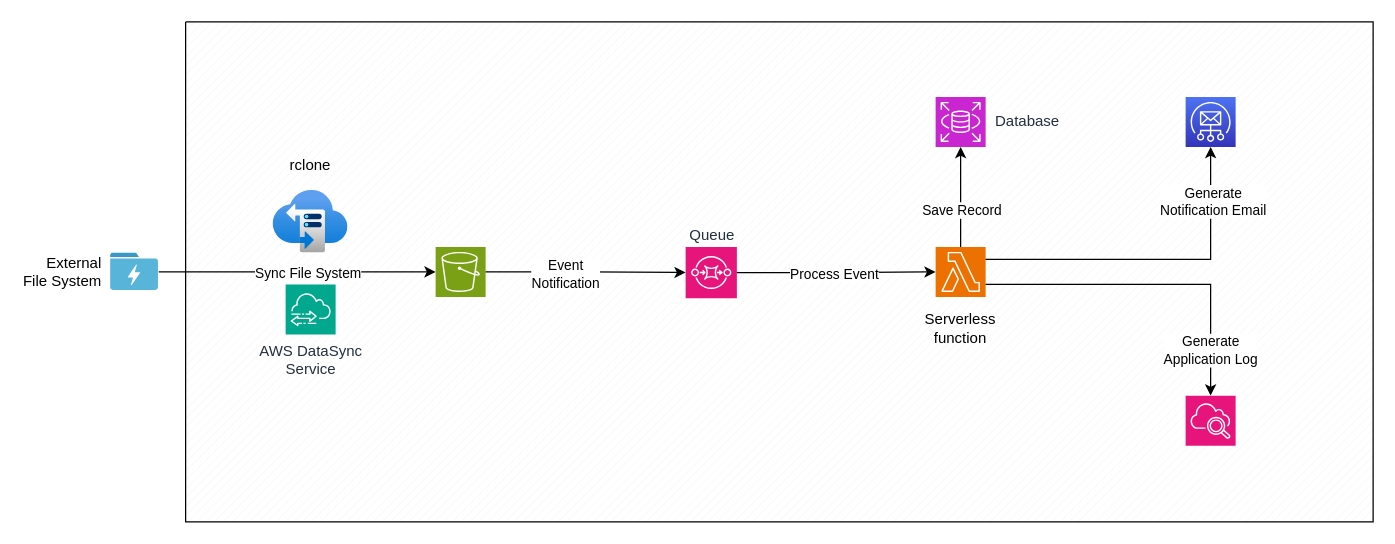
Image size: 1395x544. Some labels were removed from this diagram. The centre of each missing label's shape, as x and y in pixels:
AWS S3 Data Storage: point (460, 271)
Log Storage: point (1210, 420)
